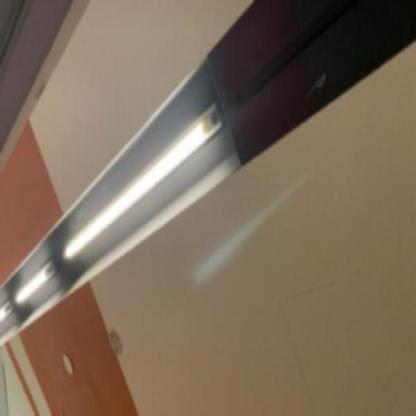light_on: (61, 89, 232, 267), (14, 258, 55, 308), (0, 290, 11, 331)
